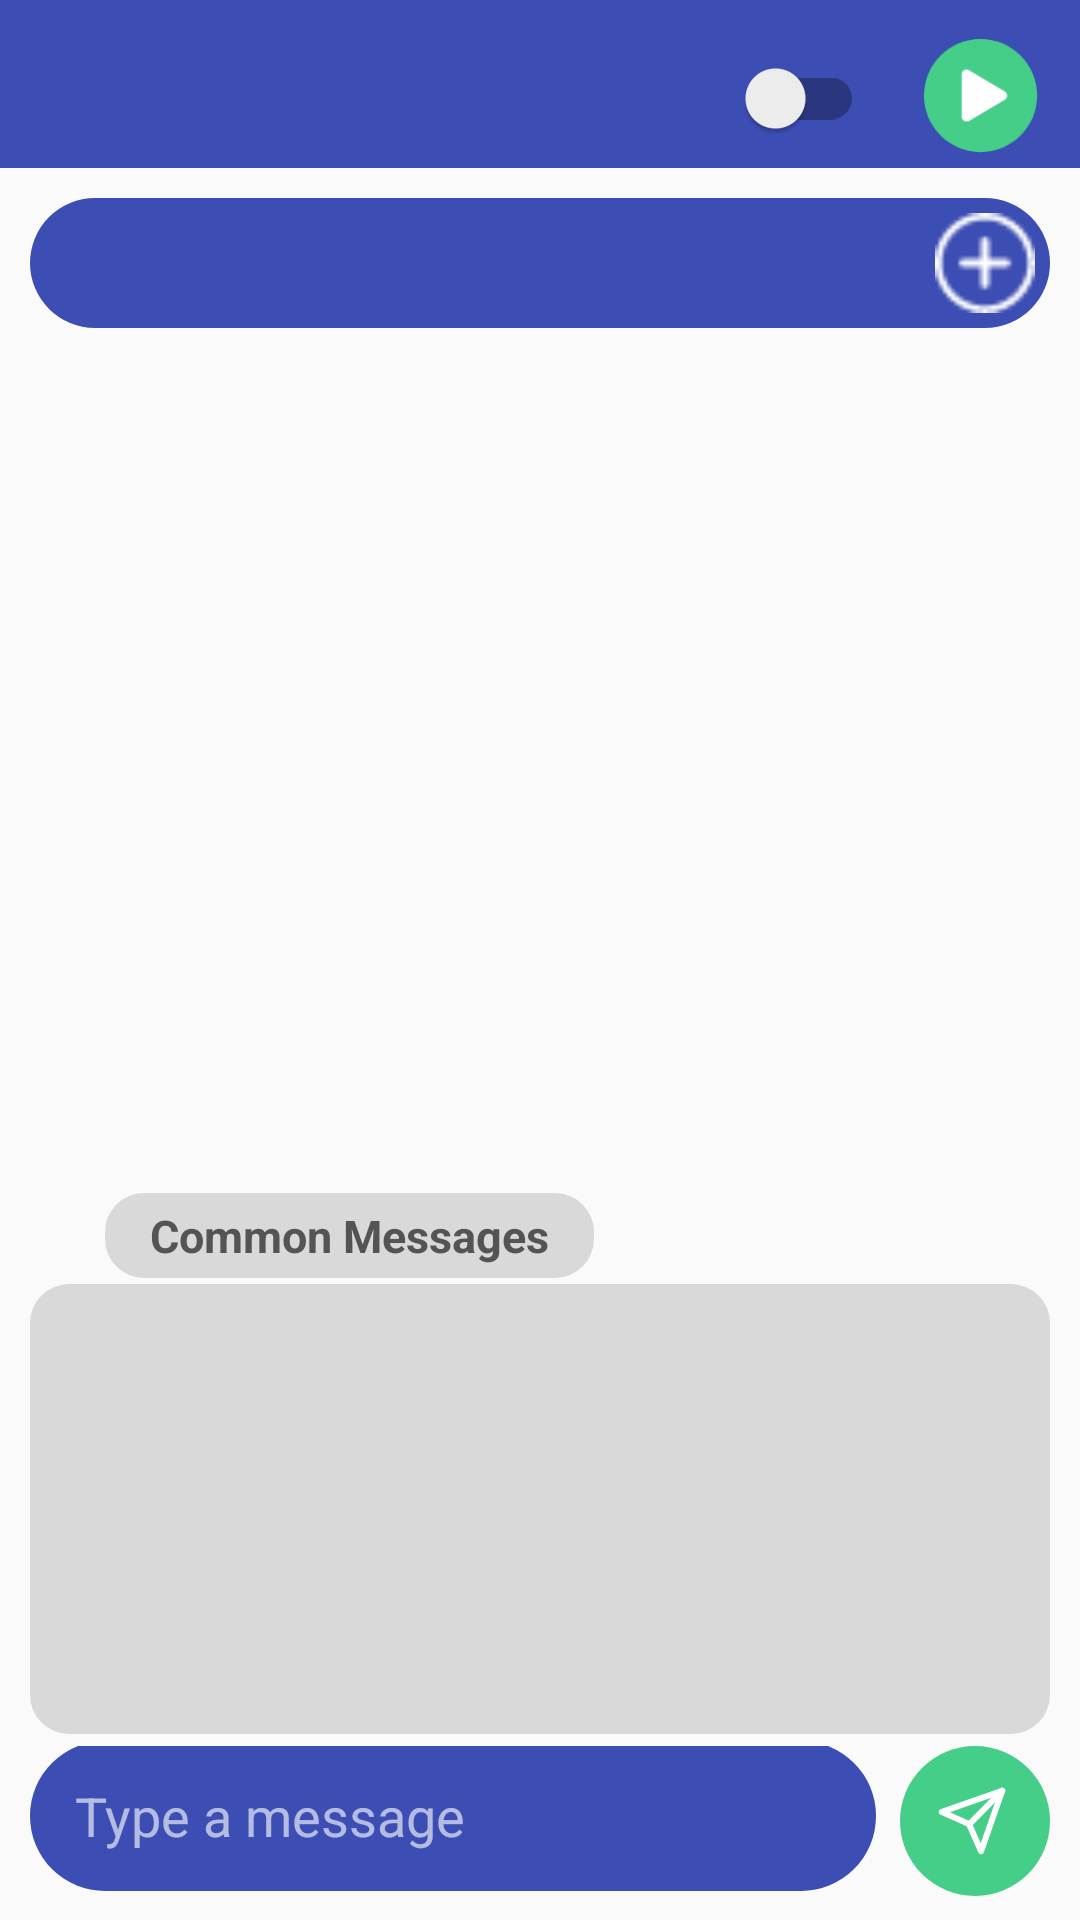

Where icons sit on this 1080*1920 app screen, as region(x1, y1, x2, y2):
ionic add circle: region(935, 213, 1035, 313)
